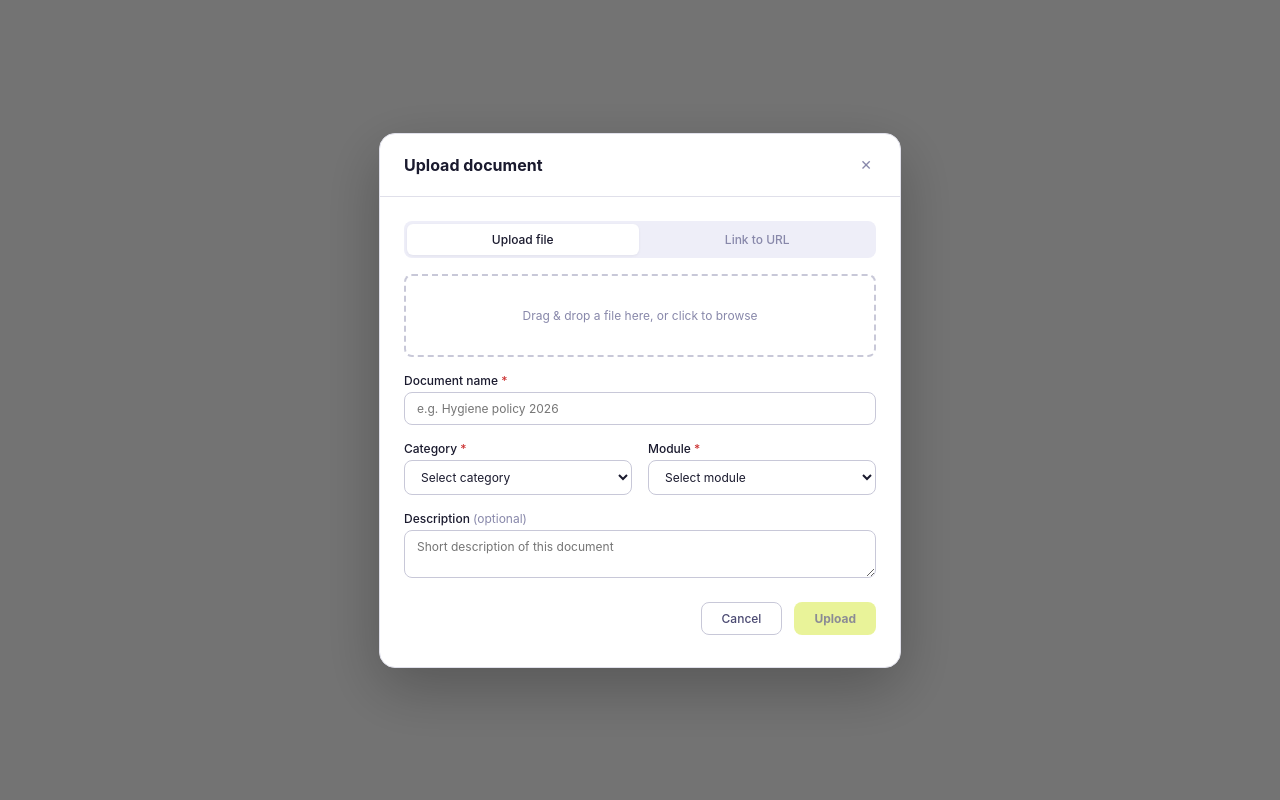
Test: DocumentUploadModal › upload mode toggle › submit button is enabled in link mode when URL is filled
Step 1. Click the button with class "toggle-btn" showing "Link to URL" → (757, 239), box [642,224,873,254]
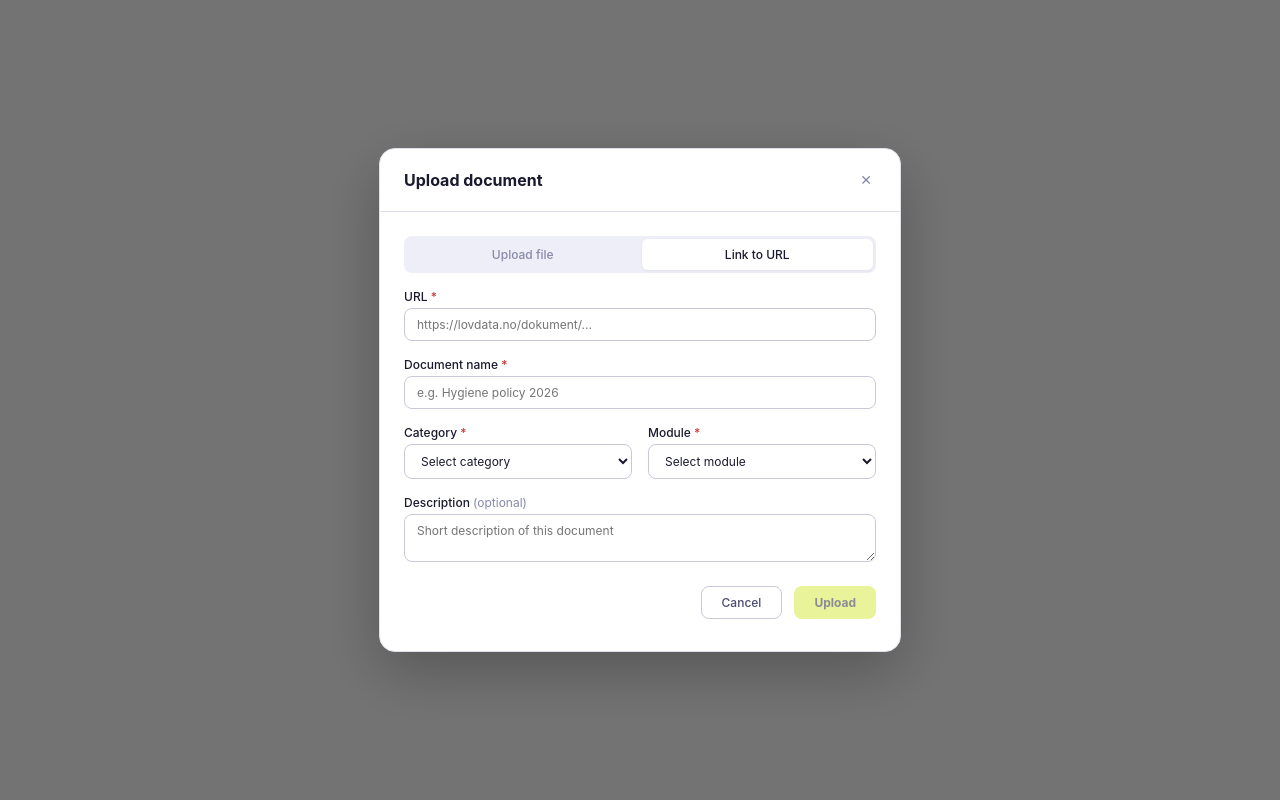
Step 2. Type "https://example.com/doc" into the field with id "upload-url" → (640, 324), box [404,308,876,341]
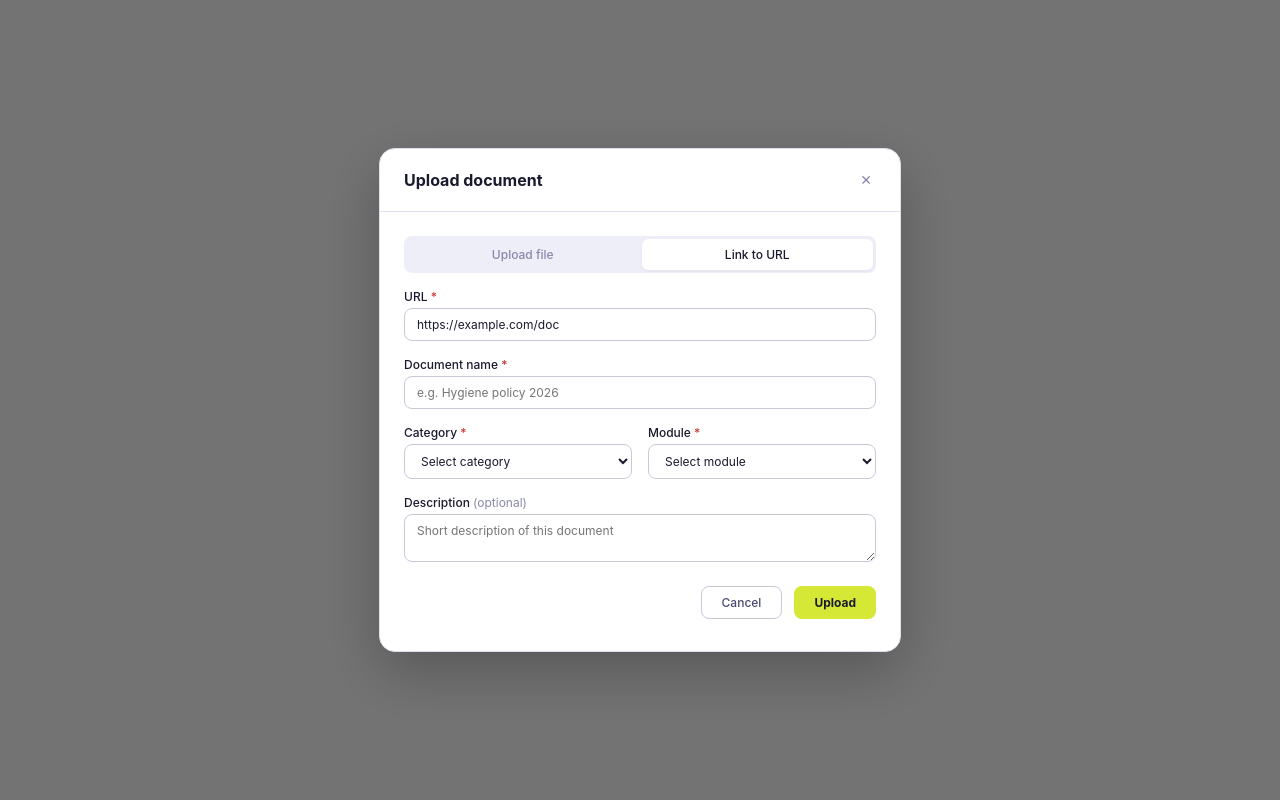
Expected: the button with class "btn-submit" is enabled, [794,586,876,619]
